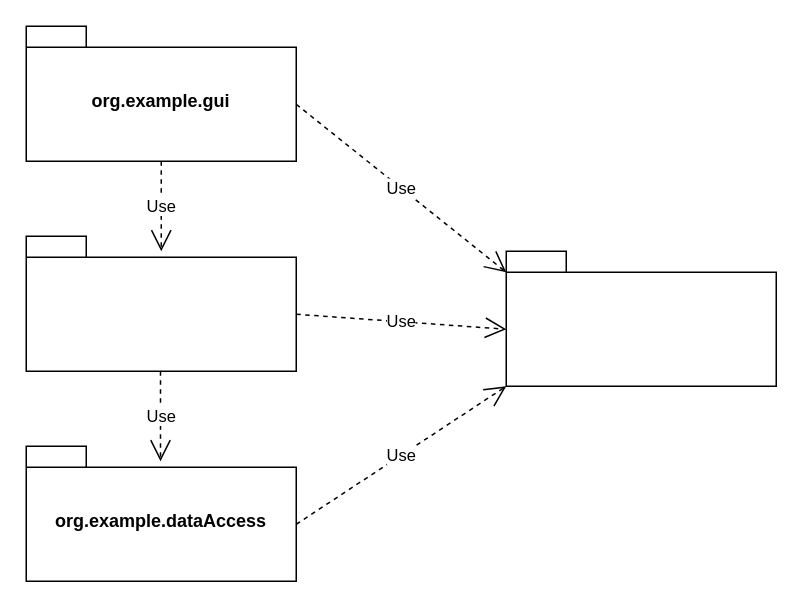
The diagram is 803 pixels wide and 608 high, and some of its shapes have lost their labels. The centre of each missing label's shape, as x and y in pixels:
"org.example.businessLogic" belongs at point (160, 303).
"org.example.dataModel" belongs at point (640, 318).
